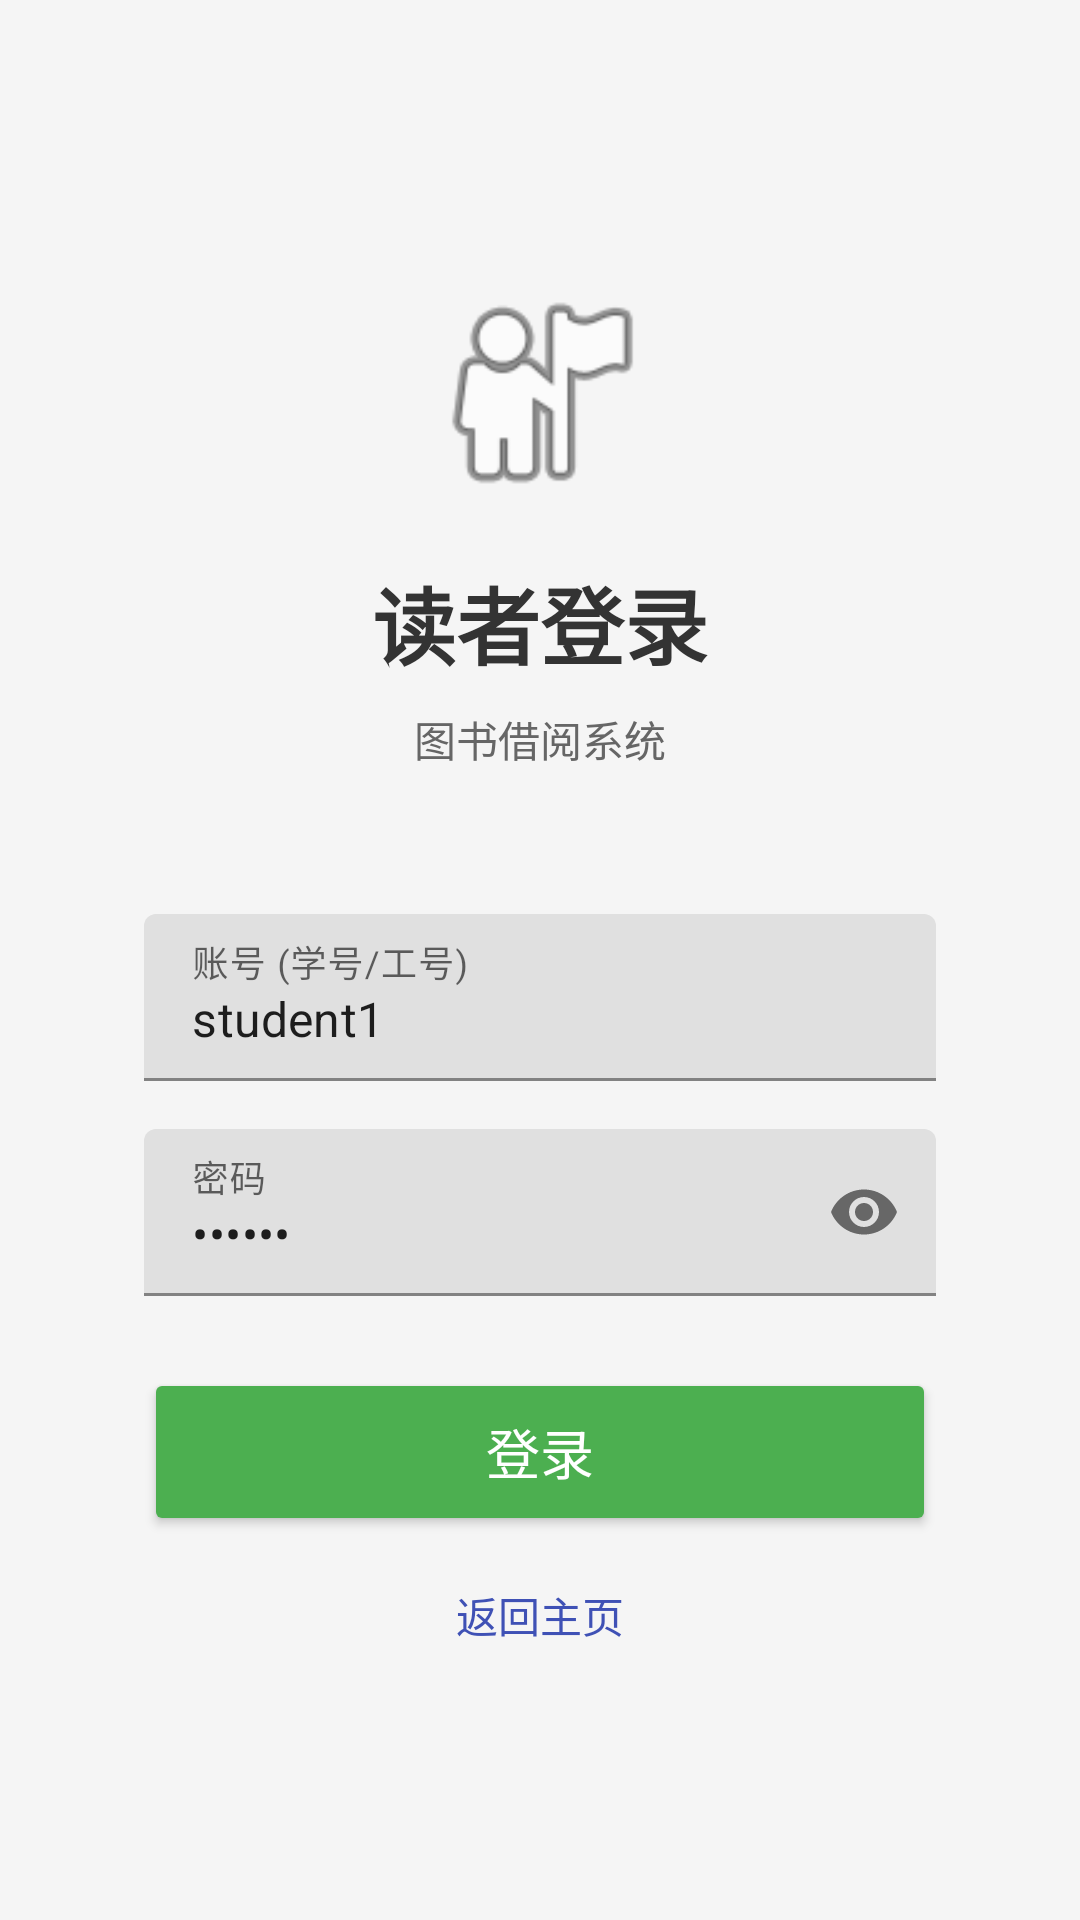

Icons on this 1080 × 1920 Android screen, each with the point to tap as (x=x, y=y):
读者图标: (x=542, y=393)
